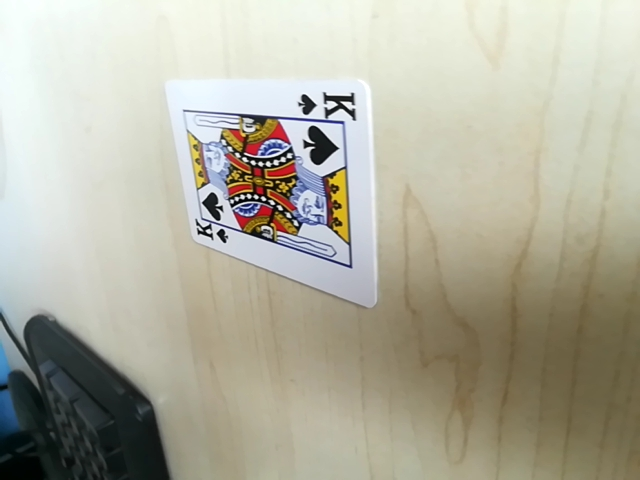ht k: (298, 88, 360, 121), (191, 214, 229, 245)
